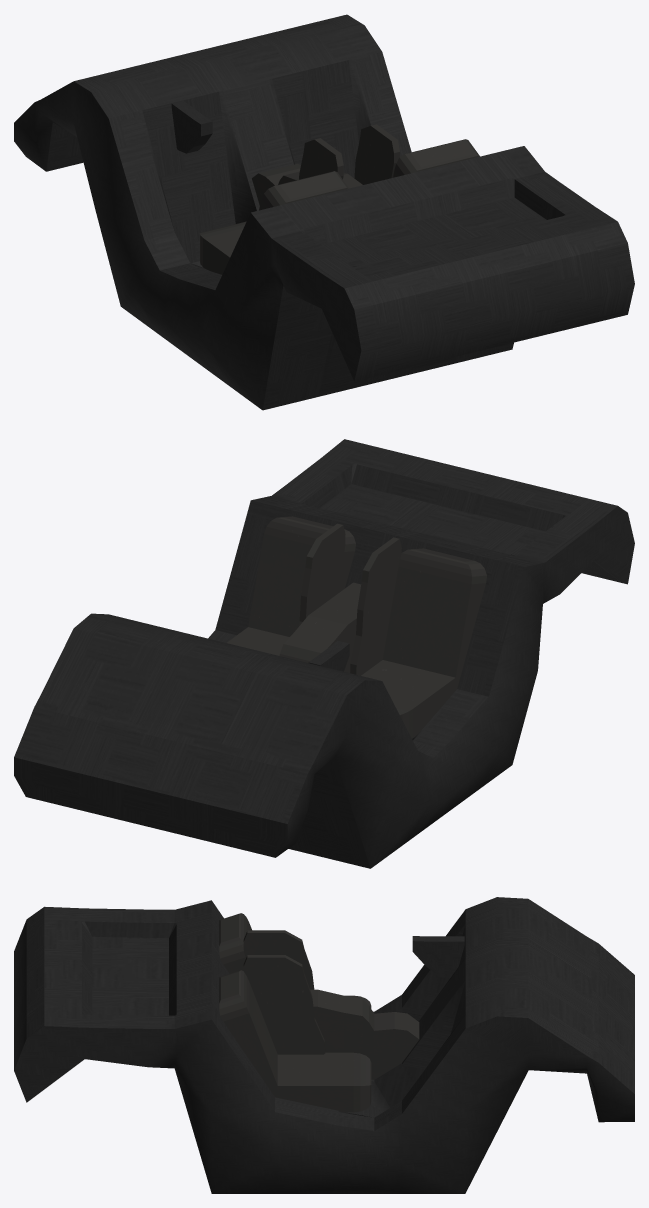
The model's file is atv_body.fbx.
3 views of the same model, one above another, from view 1: azimuth 30°, elevation 25°; view 2: azimuth 150°, elevation 25°; view 3: azimuth 270°, elevation 25° (orthographic). The views are drawn at different scales.
Parts seen in each view (by area): view 1: atvBody, passengerDividers, seatBacking, steeringColumn, seats, centerCompartment; view 2: atvBody, seatBacking, passengerDividers, seats, centerCompartment, steeringColumn; view 3: atvBody, passengerDividers, centerCompartment, seatBacking, seats, steeringColumn.
Boxes of the visible parts, <box> form: atvBody: <box>14,14,634,410</box>; passengerDividers: <box>299,124,399,184</box>; seatBacking: <box>259,139,479,210</box>; steeringColumn: <box>171,101,212,153</box>; seats: <box>200,221,246,274</box>; centerCompartment: <box>252,163,362,205</box>; atvBody: <box>14,439,634,868</box>; seatBacking: <box>248,516,486,677</box>; passengerDividers: <box>298,523,401,675</box>; seats: <box>227,627,461,738</box>; centerCompartment: <box>279,582,361,672</box>; steeringColumn: <box>308,640,349,671</box>; atvBody: <box>14,897,634,1193</box>; passengerDividers: <box>243,930,325,1054</box>; centerCompartment: <box>310,989,419,1079</box>; seatBacking: <box>219,913,278,1091</box>; seats: <box>272,995,371,1112</box>; steeringColumn: <box>412,936,464,978</box>.
Bounding box in the file's own units: 220 × 152 × 440.
